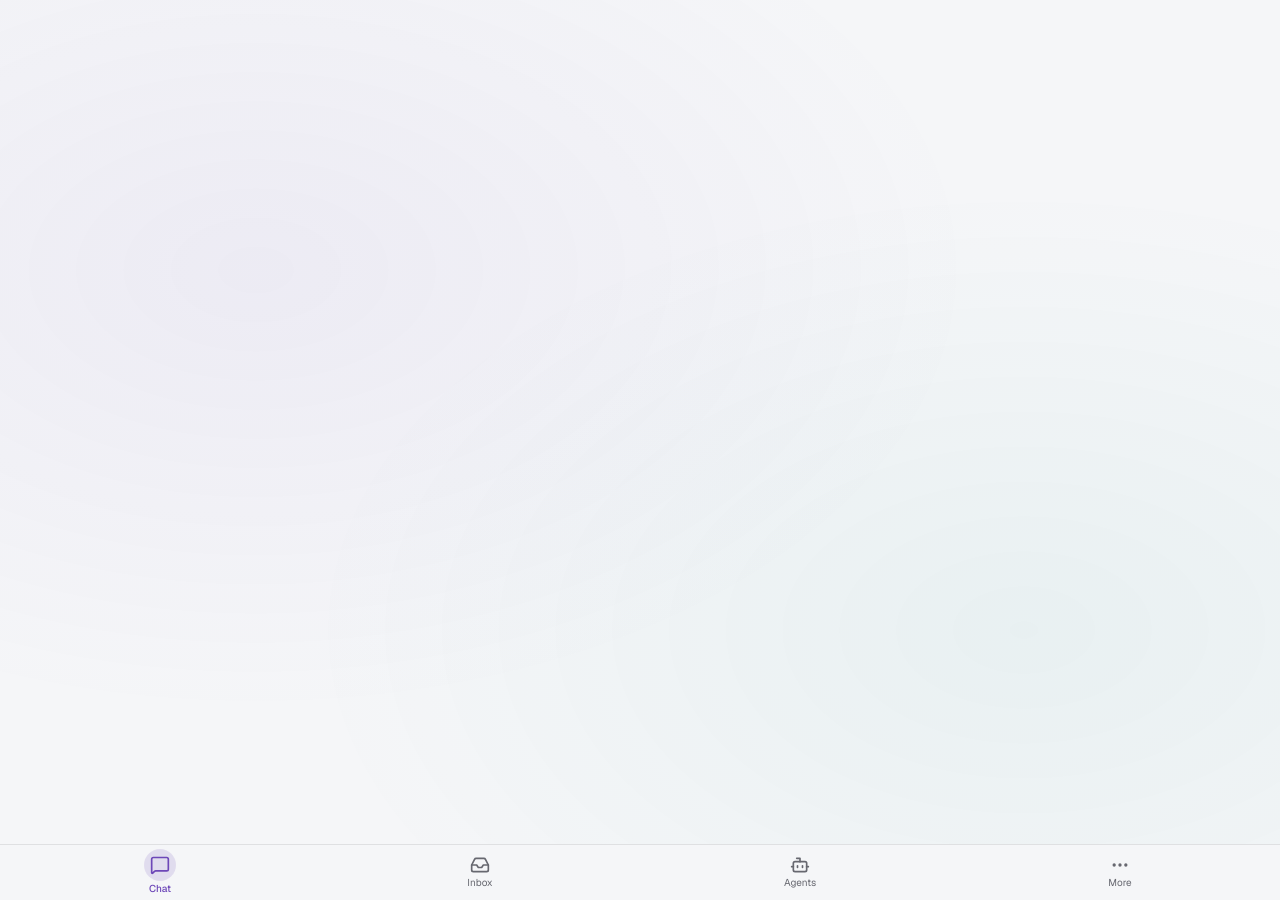
Test: MobileTabBar › shows Settings in the sheet for an owner
The image size is (1280, 900).
What coordinates should you click on to do the following:
click the button with test id "mobile-tab-more"
I would click on:
 (1120, 872)
Its box is [1098,850,1142,894].
(page scrolled)
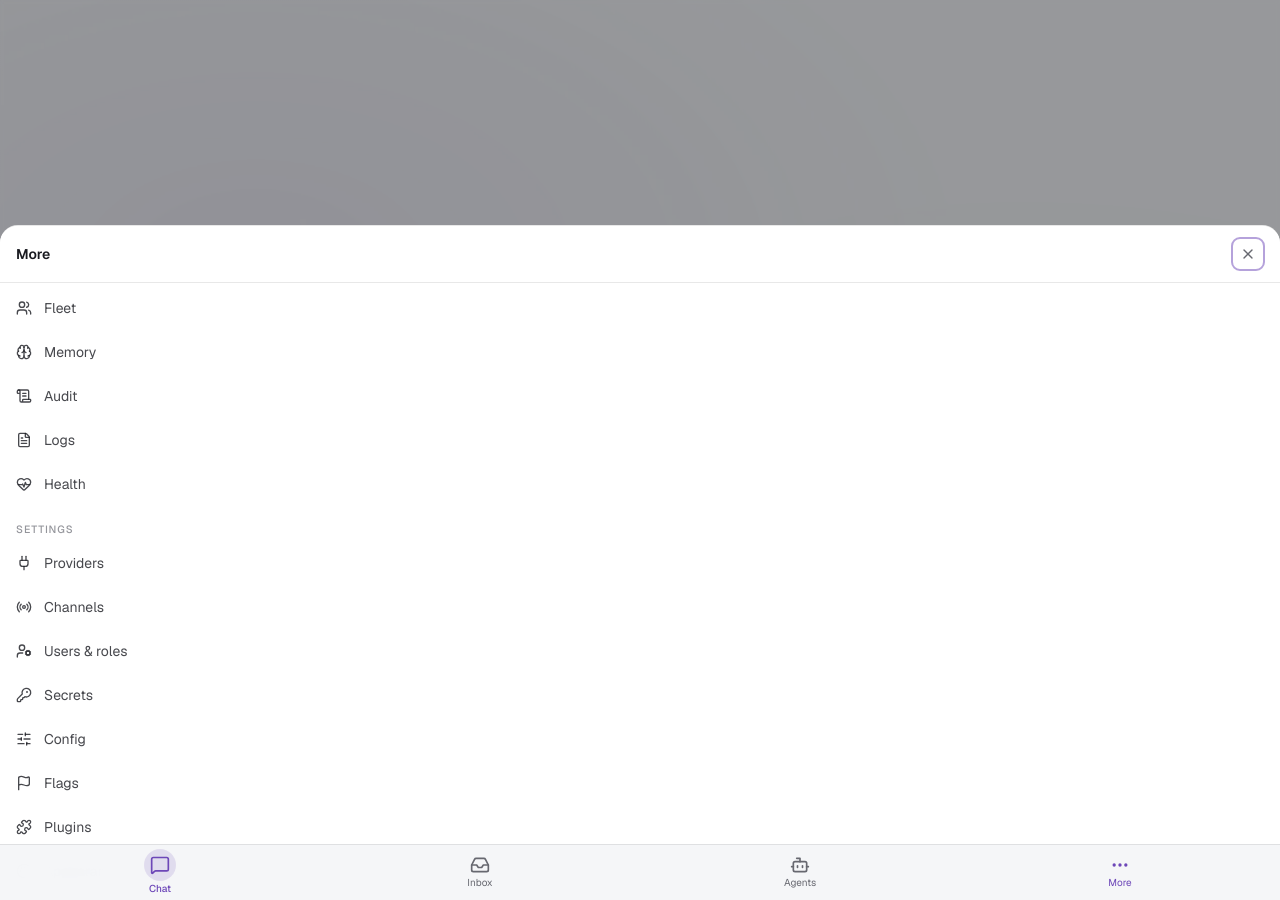
Now the button with test id "more-nav-settings-providers" is shown, box [8,541,1272,585]
